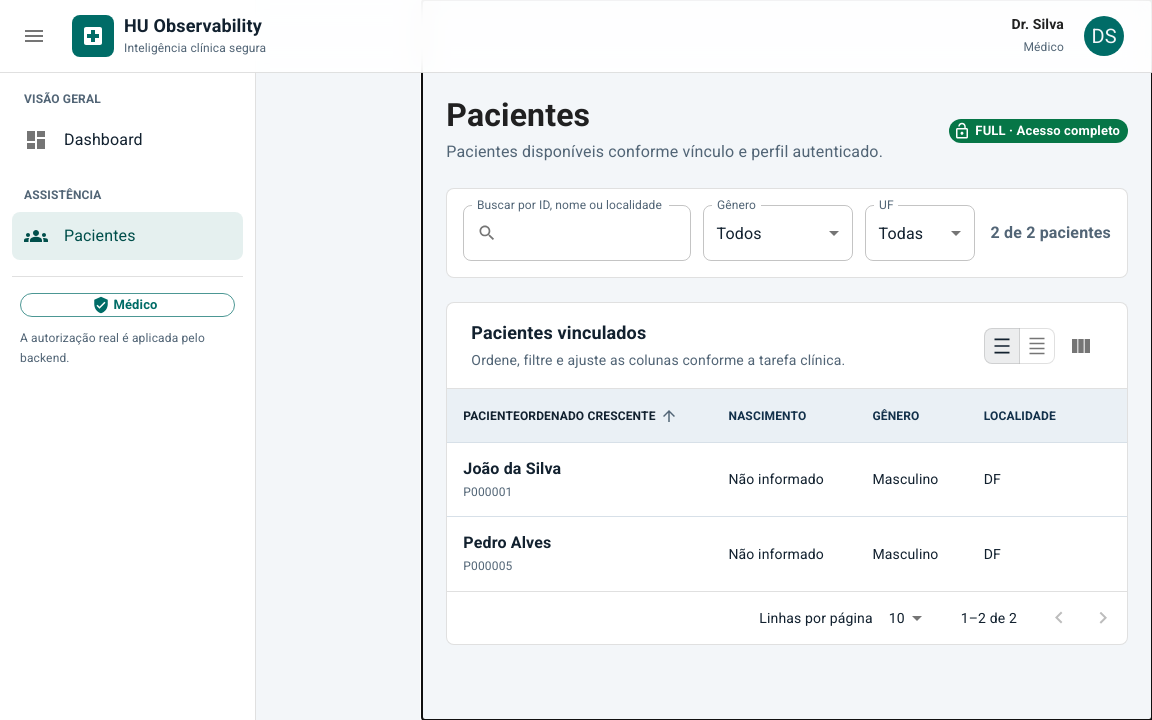
Test: Patients › filters patients by search text
This screenshot has width=1152, height=720.
expect the text "João da Silva" is shown: met, box left=463, top=458, right=561, bottom=478
Type "Pedro" into the field labelled "Buscar por ID, nome ou localidade".
click(598, 233); type("Pedro")  # box left=505, top=205, right=691, bottom=261
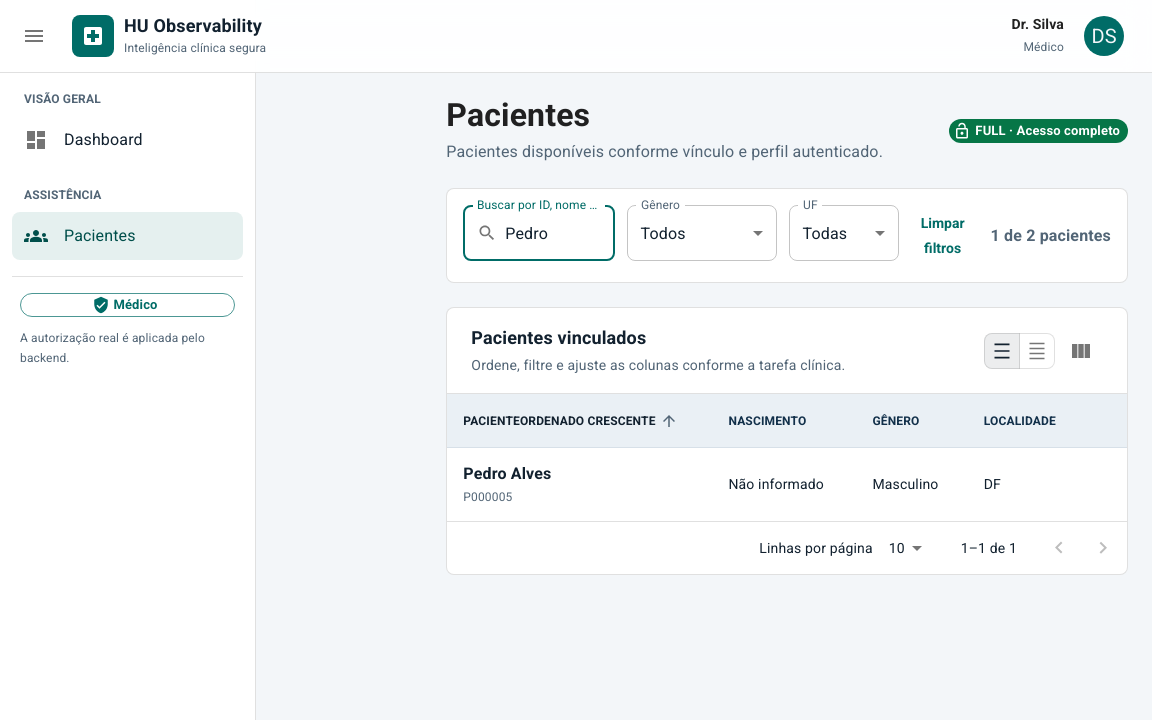
expect the text "Pedro Alves" is shown: met, box left=463, top=464, right=551, bottom=482
expect the text "João da Silva" is gone: met
